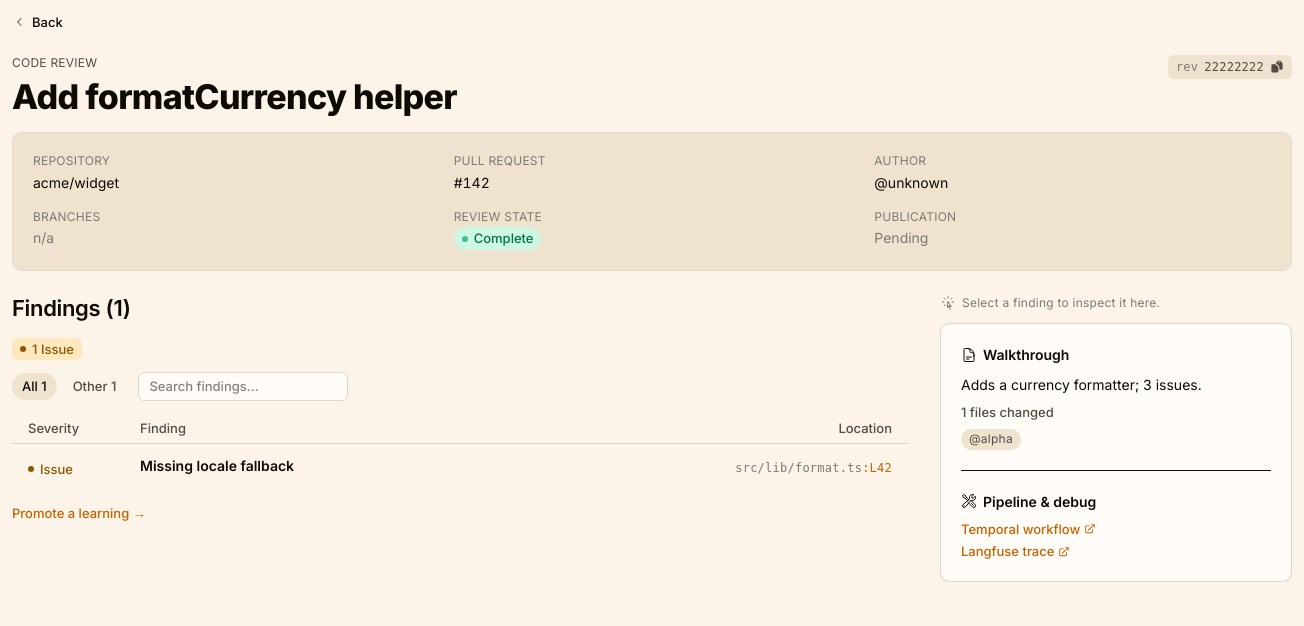
Test case: ReviewDetailPage — wiring › P3 walkthrough › renders the walkthrough block with TL;DR and a file row
The width and height of the screenshot is (1304, 626).
Check: the heading "Walkthrough" is shown, box [961, 346, 1069, 363]
Check: the text "Adds a currency formatter; 3 issues." is shown, box [961, 376, 1202, 392]
# File rows are behind the "1 files changed" disclosure -- open it.
Click the heading "1 files changed" at (1007, 412), box [961, 404, 1054, 420]
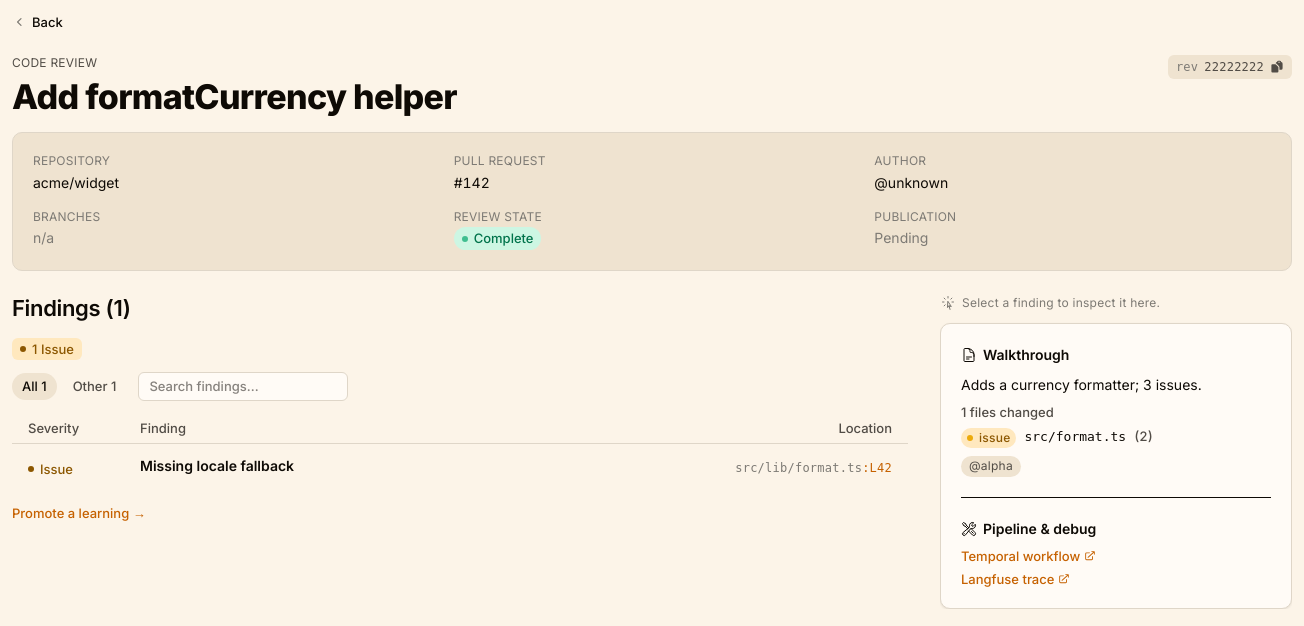
Check: the text "src/format.ts" is shown, box [1024, 428, 1126, 447]
